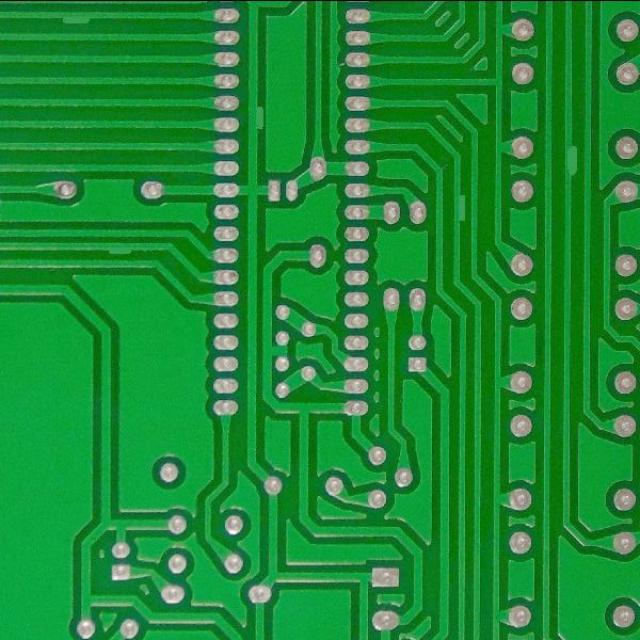Spur: (561, 140, 581, 180), (58, 7, 96, 28), (244, 102, 266, 134), (104, 239, 138, 257), (451, 190, 468, 226)
